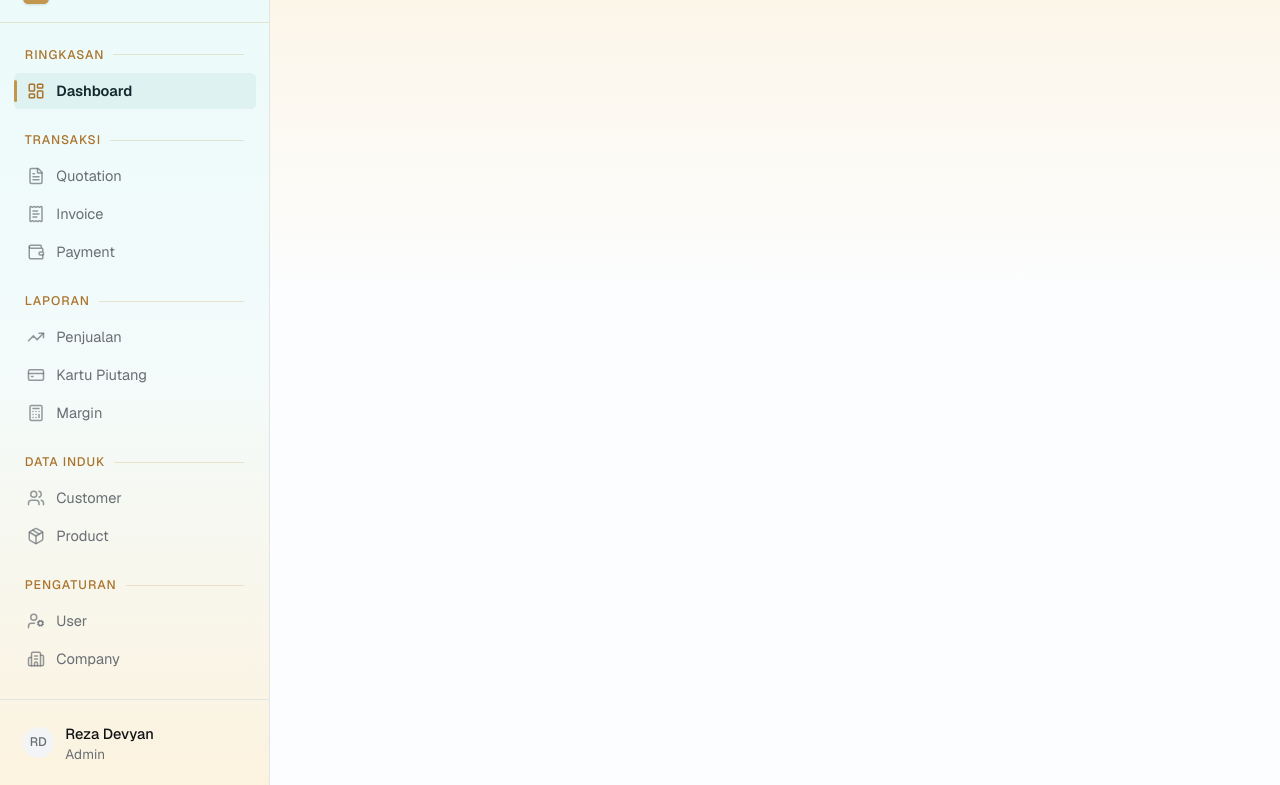
Test case: Kerangka aplikasi › membuka menu kartu user tanpa menjatuhkan halaman
The image size is (1280, 785).
(page scrolled)
Expected: the menu item "Keluar" is not shown
Step 1. Click the button "RD Reza Devyan Admin" → (134, 743), box left=14, top=714, right=256, bottom=772
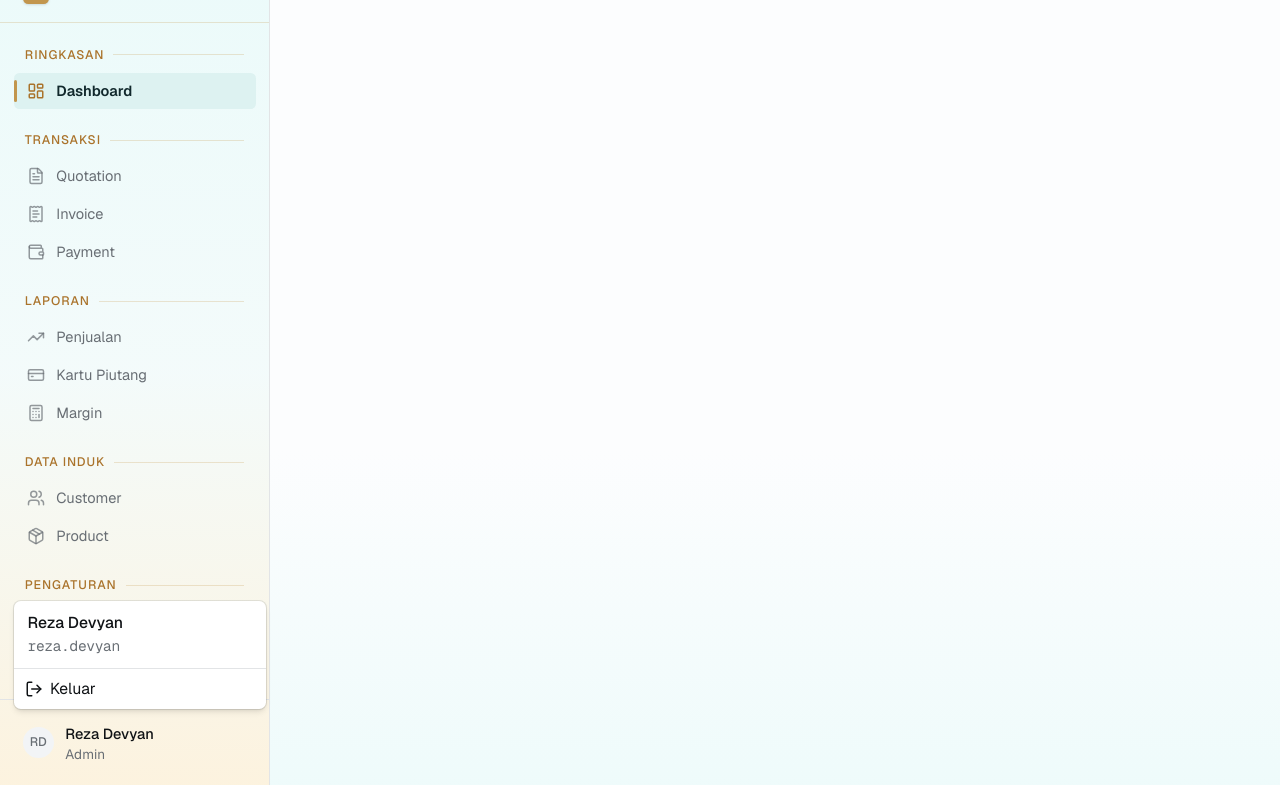
Expected: the menu item "Keluar" is shown, left=25, top=678, right=96, bottom=699
Expected: the text "reza.devyan" is shown, left=28, top=636, right=120, bottom=655
